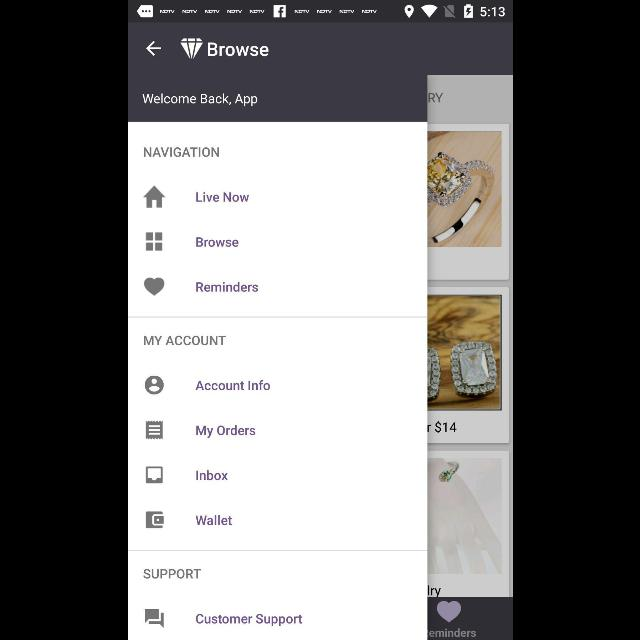icon: (142, 186, 166, 208), (144, 276, 164, 296), (144, 608, 162, 628), (145, 420, 163, 440), (144, 232, 162, 252), (144, 376, 162, 394), (145, 512, 163, 528), (146, 466, 162, 484), (145, 41, 161, 57)
image: (180, 39, 202, 60)
panel: (128, 22, 426, 640)
text: (142, 94, 256, 106), (195, 614, 302, 626), (142, 334, 225, 346), (206, 43, 268, 57), (195, 425, 255, 439), (194, 381, 270, 392), (143, 147, 220, 157), (142, 568, 200, 580), (195, 282, 258, 292), (196, 192, 248, 202), (196, 236, 238, 248), (194, 514, 232, 526), (195, 470, 227, 480)
uppertaskbar: (128, 1, 512, 23)
